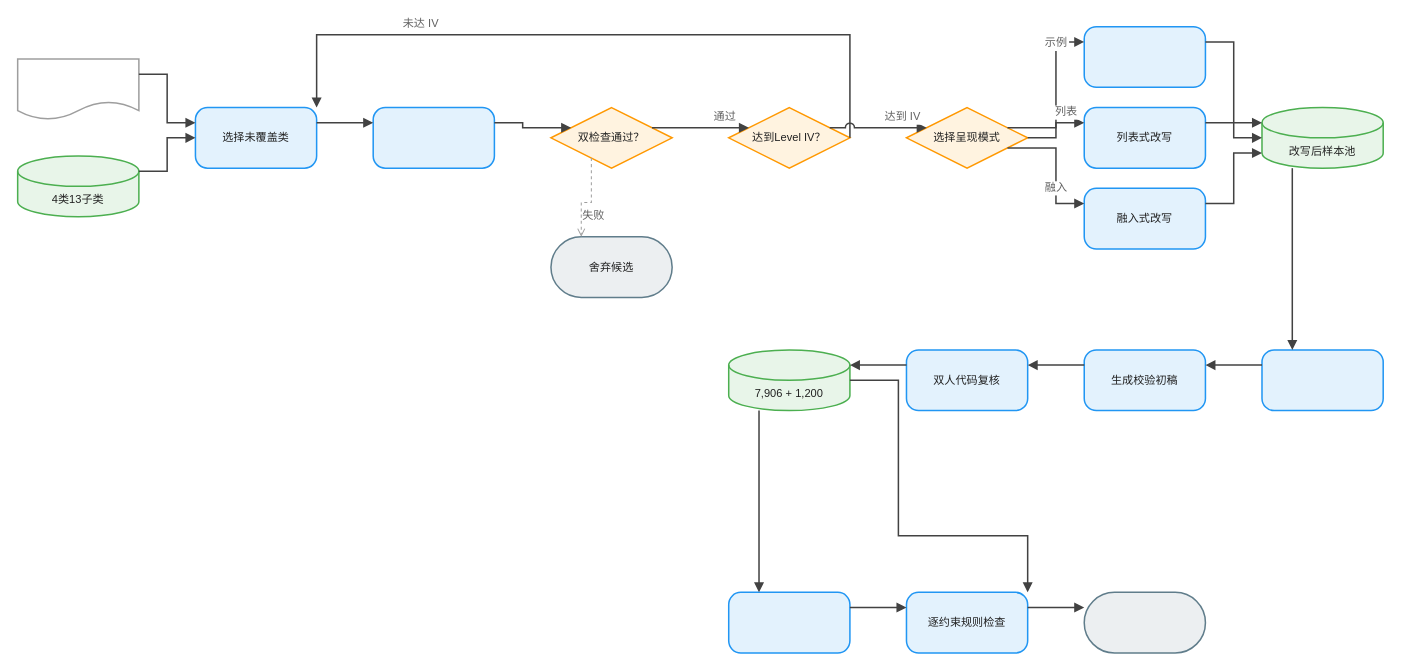
Some shapes in this 1402 by 671 pixel diagram are drawn without their labels. The centre of each missing label's shape, as x and y in pixels:
3组匹配问答: point 1144,57
ShareGPT原题: point 77,89
人工数据质检: point 1322,380
分维度严格得分: point 1144,622
新增1-2条: point 433,137
测试集推理: point 789,622
